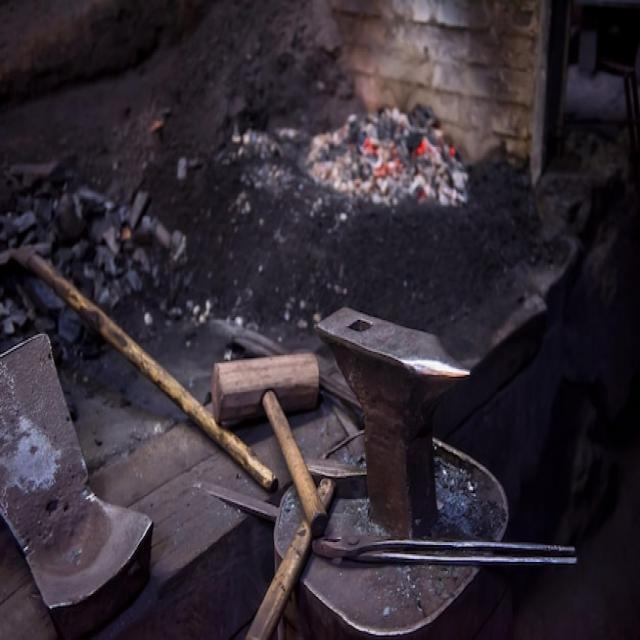hammer: (242, 447, 372, 640), (206, 349, 332, 542)
